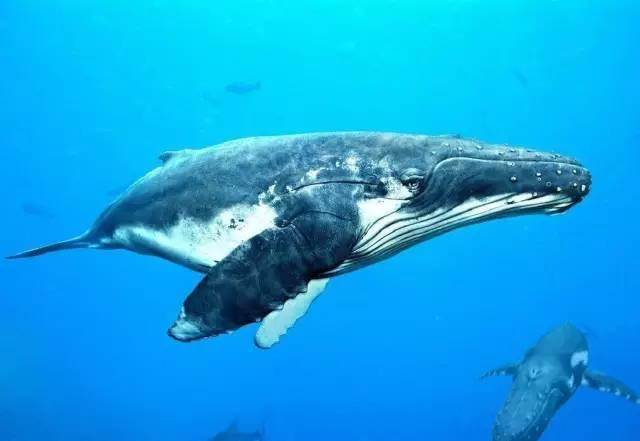fish: (5, 134, 595, 346)
